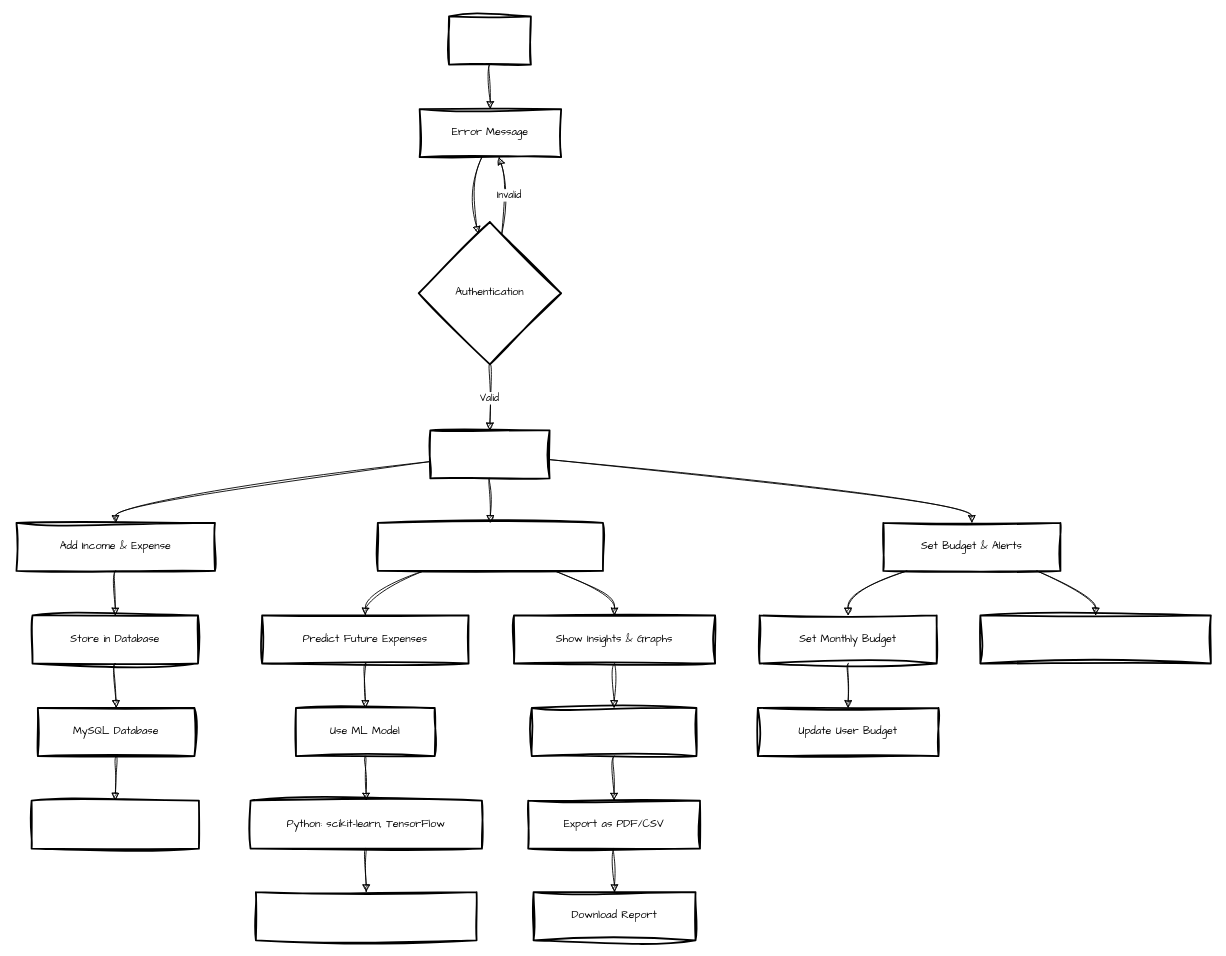
The diagram is 1226 pixels wide and 956 high, and some of its shapes have lost their labels. Here are the shapes that lost their labels. From the top down, the centre of each, then its label:
the point at 489,40: User
the point at 489,454: Dashboard
the point at 489,546: View Predictions & Insights
the point at 1095,639: Get Alerts for Overspending
the point at 613,731: Generate Reports
the point at 114,824: User Data Storage
the point at 366,916: Predictive Analysis Results
